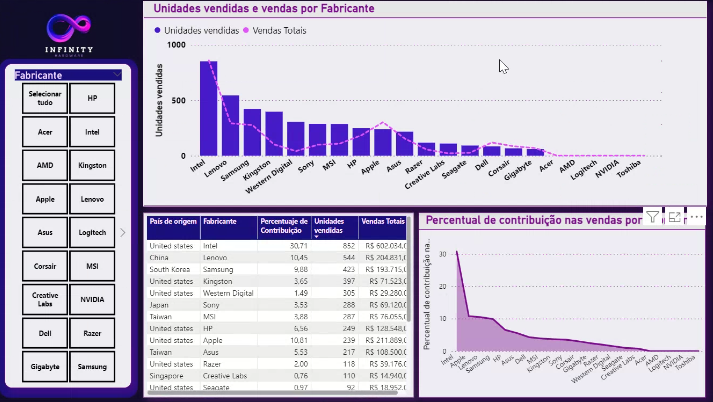

Layout of this report page (visuals, bound fields, positions):
{"tool":"powerbi","page":{"name":"Fornecedores","canvas":[1280,720],"ordinal":3},"visuals":[{"type":"tableEx","fields":{"Values":["Manufacturers.País de origem","Sales by Manufacturer.Fabricante","Sum(Sales by Manufacturer.Percentual de Contribuição)","Sum(Sales by Manufacturer.Unidades vendidas)","Sum(Sales by Manufacturer.Vendas Totais)"]},"box":[263.1,382.4,481,328.9],"z":0},{"type":"areaChart","fields":{"Category":["Sales by Manufacturer.Fabricante"],"Y":["Sum(Sales by Manufacturer.Percentual de Contribuição)"]},"box":[754.1,383.1,510.3,328.6],"z":1000},{"type":"lineStackedColumnComboChart","title":" Unidades vendidas e vendas por Fabricante","fields":{"Category":["Sales by Manufacturer.Fabricante"],"Y":["Sum(Sales by Manufacturer.Unidades vendidas)"],"Y2":["Sum(Sales by Manufacturer.Vendas Totais)"]},"box":[263.6,67.3,1002.7,303.7],"z":2000},{"type":"image","box":[36.3,0,190.8,134.8],"z":3000},{"type":"shape","box":[7.6,109,246.8,602.7],"z":4000},{"type":"slicer","fields":{"Values":["Manufacturers.Fabricante"]},"box":[16.7,118.1,225.6,576.9],"z":5000},{"type":"shape","box":[263.6,10,1004.1,50],"z":6000},{"type":"image","box":[860.9,2.9,61.6,41.5],"z":7000},{"type":"image","box":[607.8,2.9,45.4,43.9],"z":8000},{"type":"image","box":[732,10,65.9,44.4],"z":9000},{"type":"textbox","box":[613.1,41.5,40.1,18.6],"z":10000},{"type":"textbox","box":[869,39,63,19],"z":11000},{"type":"textbox","box":[745,41,63,19],"z":12000},{"type":"actionButton","box":[598.7,10,61.6,50.1],"z":13000},{"type":"actionButton","box":[733.4,11,61.6,51],"z":14000},{"type":"actionButton","box":[861.3,9.3,62.2,52.9],"z":15000},{"type":"slicer","fields":{"Values":["CalendarTable.Date.Variation.Hierarquia de datas.Ano"]},"box":[1172.9,16.6,95.4,42.4],"z":15001},{"type":"textbox","box":[1139,21.5,57.5,30.3],"z":15002}]}

Visuals, with their boxes in screenshot pixels (x1, y1, x2, y2), scaled from the page's 1280x720 canvas onto the 713x402 screenshot:
tableEx - Manufacturers.País de origem x Sales by Manufacturer.Fabricante: detection(147, 214, 414, 397)
areaChart - Sales by Manufacturer.Fabricante x Sum(Sales by Manufacturer.Percentual de Contribuição): detection(420, 214, 704, 397)
" Unidades vendidas e vendas por Fabricante" lineStackedColumnComboChart: detection(147, 38, 705, 207)
image: detection(20, 0, 127, 75)
shape: detection(4, 61, 142, 397)
slicer - Manufacturers.Fabricante: detection(9, 66, 135, 388)
shape: detection(147, 6, 706, 34)
image: detection(480, 2, 514, 25)
image: detection(339, 2, 364, 26)
image: detection(408, 6, 444, 30)
textbox: detection(342, 23, 364, 34)
textbox: detection(484, 22, 519, 32)
textbox: detection(415, 23, 450, 34)
actionButton: detection(333, 6, 368, 34)
actionButton: detection(409, 6, 443, 35)
actionButton: detection(480, 5, 514, 35)
slicer - CalendarTable.Date.Variation.Hierarquia de datas.Ano: detection(653, 9, 706, 33)
textbox: detection(634, 12, 666, 29)
